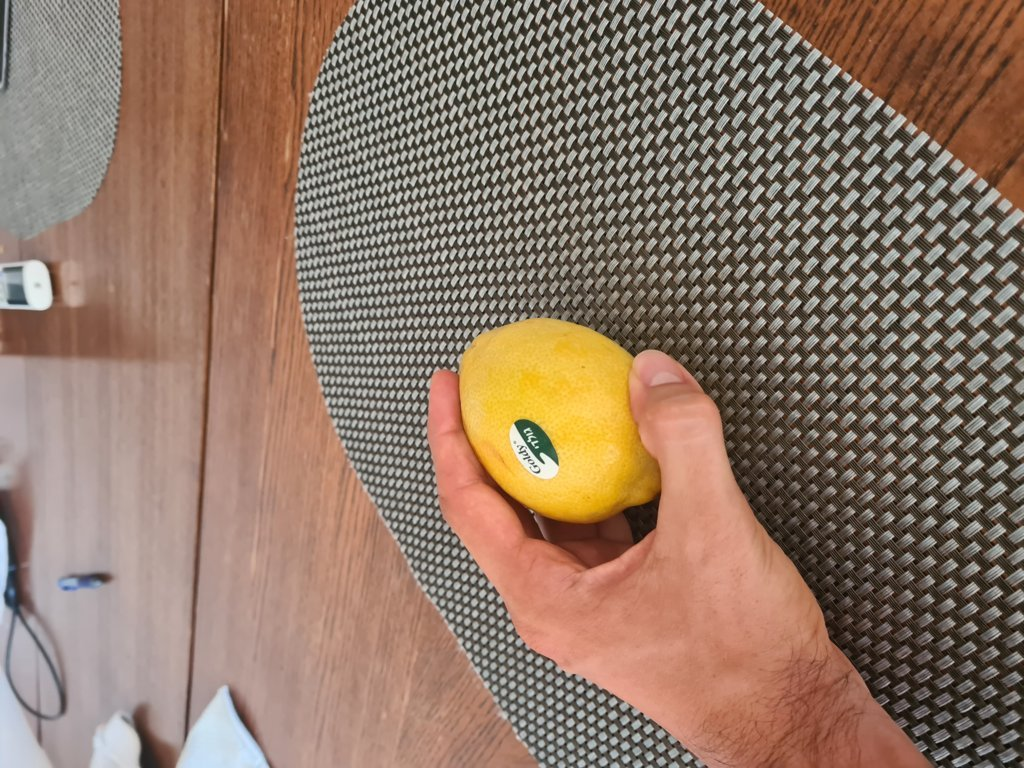lemon: (447, 323, 682, 524)
